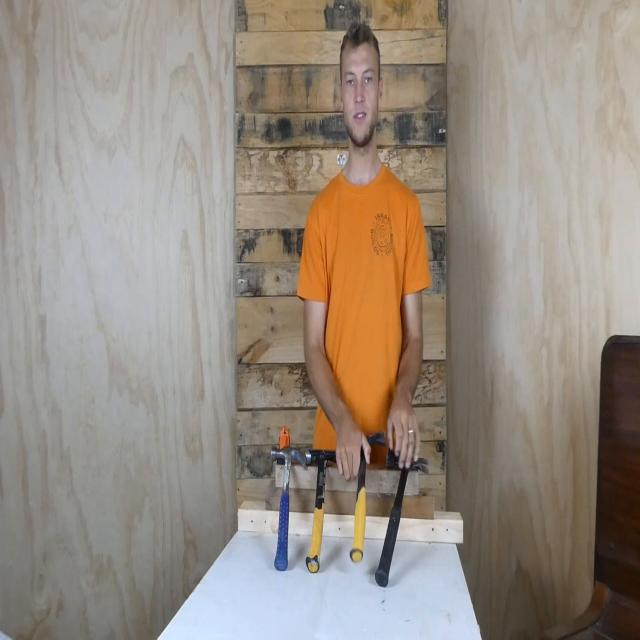hammer: (372, 448, 434, 594), (268, 441, 308, 582), (304, 446, 344, 580), (347, 428, 386, 559)
